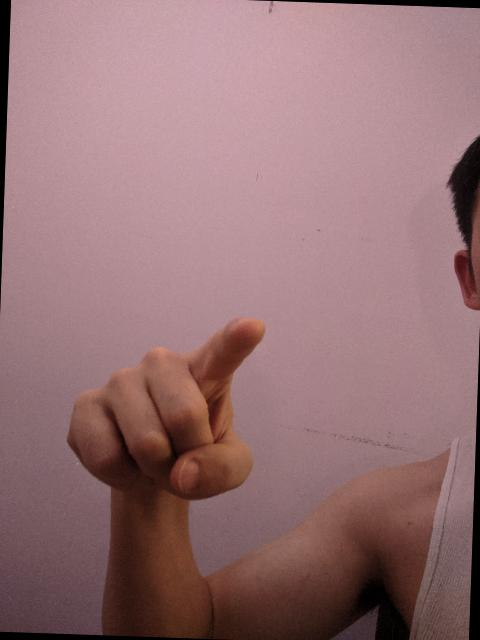Z: (61, 306, 271, 508)
